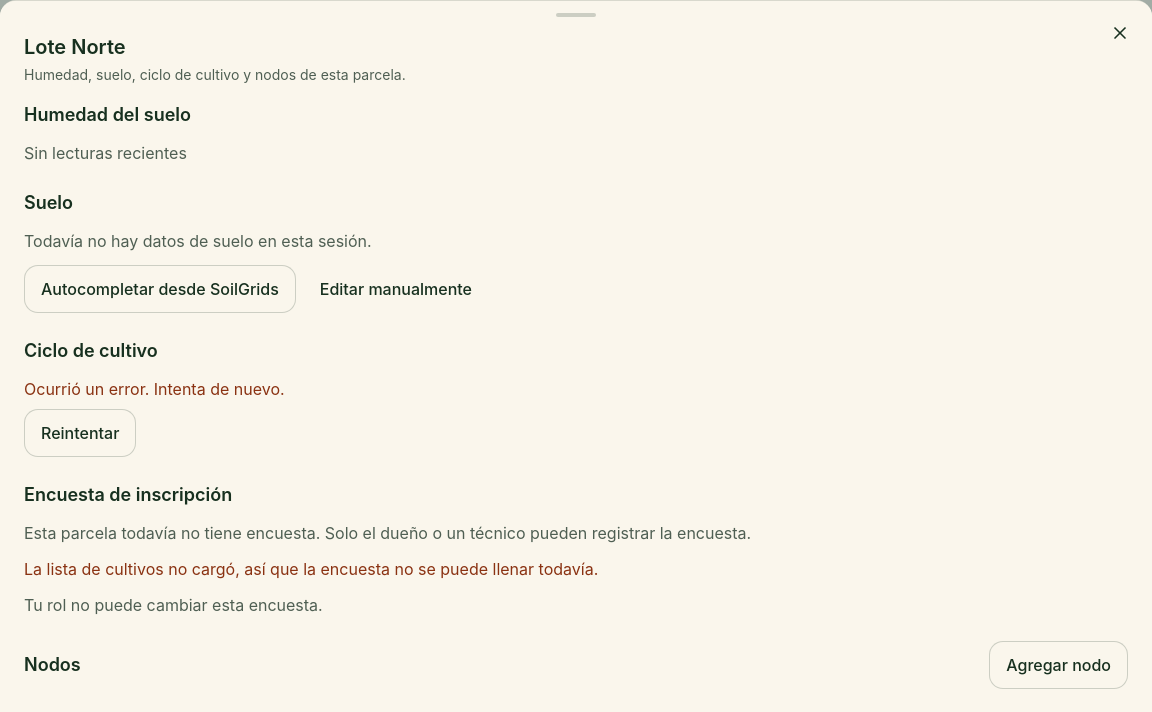
PlotDetailSheet › shows error state with retry when crops request fails
This screenshot has width=1152, height=712.
Expected: the text "Ocurrió un error. Intenta de nuevo." is shown, [24,379,285,399]
Click the button "Reintentar": click(80, 433) [24,409,136,457]
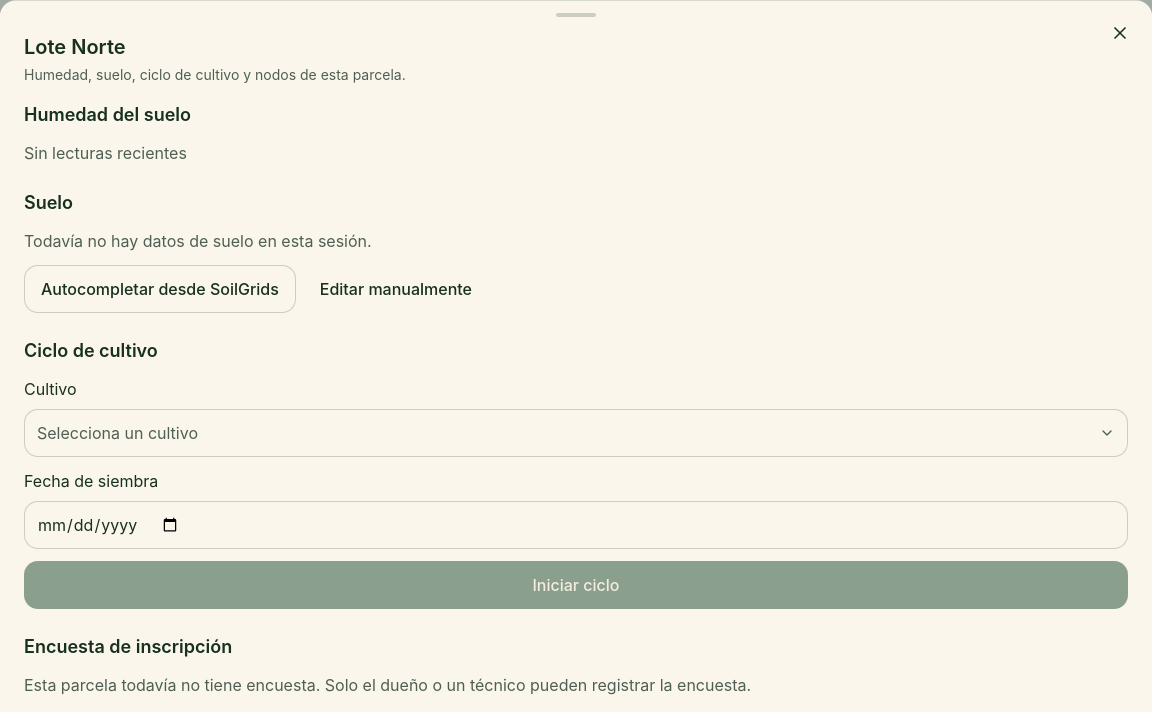
Expected: the dropdown is shown, [24,409,1128,457]
